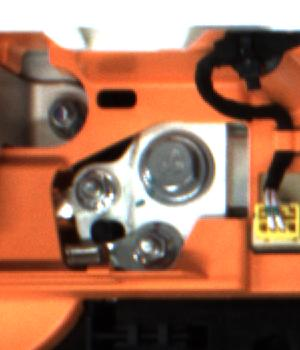nut_b: (135, 125, 221, 209)
